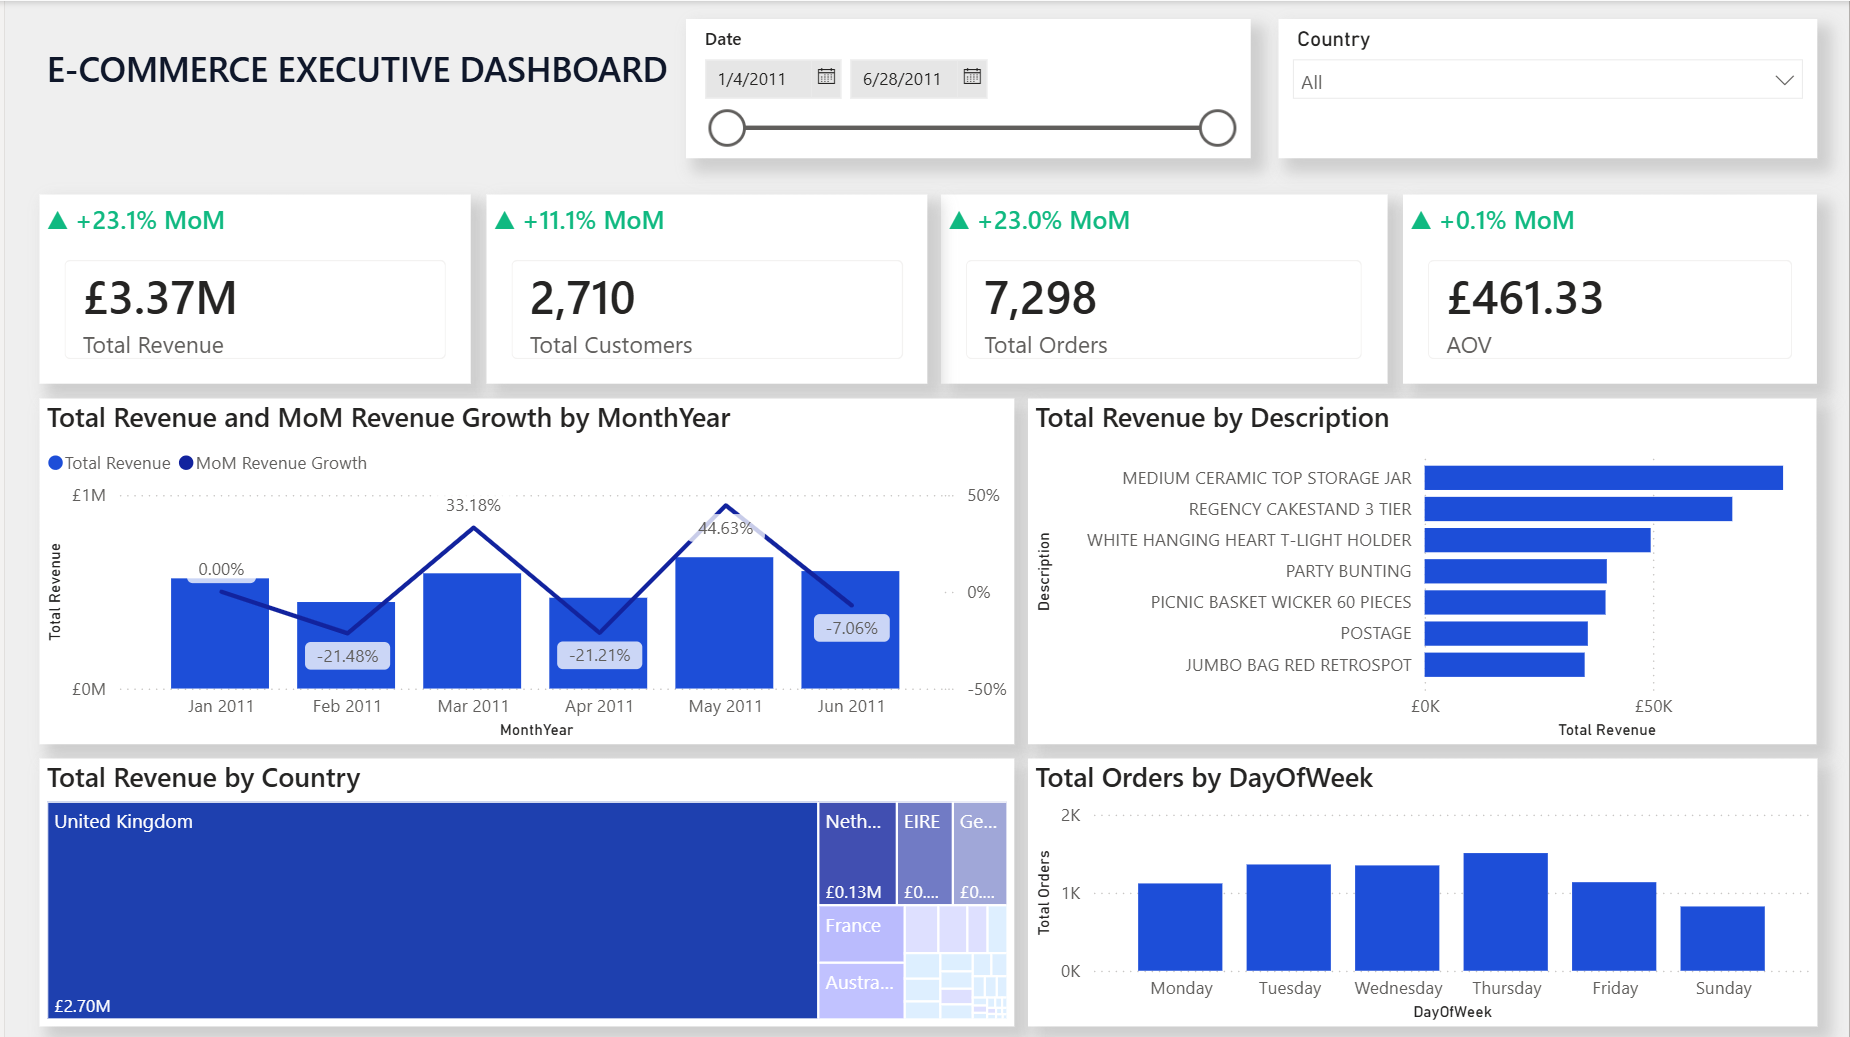

The dashboard page shown, as its layout file describes it:
{"tool":"powerbi","page":{"name":"Executive Overview","canvas":[1280,720],"ordinal":0},"visuals":[{"type":"textbox","box":[24.1,25.3,489.7,47],"z":0},{"type":"slicer","fields":{"Values":["Dim_Date.Date"]},"box":[472.8,12.1,392,96.5],"z":1000},{"type":"slicer","fields":{"Values":["transactions_clean.Country"]},"box":[884,12.1,373.9,96.5],"z":2000},{"type":"cardVisual","fields":{"Data":["Measures (2).Total Revenue"]},"box":[24.1,133.9,299.1,131.5],"z":3000},{"type":"cardVisual","fields":{"Data":["Measures (2).Total Orders"]},"box":[650.1,133.9,310,131.5],"z":4000},{"type":"cardVisual","fields":{"Data":["Measures (2).Total Customers"]},"box":[334.1,133.9,306.3,131.5],"z":5000},{"type":"cardVisual","fields":{"Data":["Measures (2).AOV"]},"box":[970.9,133.9,287,131.5],"z":6000},{"type":"lineClusteredColumnComboChart","fields":{"Category":["Dim_Date.MonthYear"],"Y":["Measures (2).Total Revenue"],"Y2":["Measures (2).MoM Revenue Growth"]},"box":[24.1,276.2,676.6,240],"z":7000},{"type":"clusteredBarChart","fields":{"Category":["transactions_clean.Description"],"Y":["Measures (2).Total Revenue"]},"box":[710.4,276.2,547.5,240],"z":8000},{"type":"treemap","fields":{"Group":["transactions_clean.Country"],"Values":["Measures (2).Total Revenue"]},"box":[24.1,525.8,676.6,185.7],"z":9000},{"type":"clusteredColumnChart","fields":{"Category":["Dim_Date.DayOfWeek"],"Y":["Measures (2).Total Orders"]},"box":[710,526,548,186],"z":10000}]}

Visuals, with their boxes in screenshot pixels (x1, y1, x2, y2), scaled from the page's 1280x720 canvas onto the 1850x1037 screenshot:
textbox: x1=35 y1=36 x2=743 y2=104
slicer - Dim_Date.Date: x1=683 y1=17 x2=1250 y2=156
slicer - transactions_clean.Country: x1=1278 y1=17 x2=1818 y2=156
cardVisual - Measures (2).Total Revenue: x1=35 y1=193 x2=467 y2=382
cardVisual - Measures (2).Total Orders: x1=940 y1=193 x2=1388 y2=382
cardVisual - Measures (2).Total Customers: x1=483 y1=193 x2=926 y2=382
cardVisual - Measures (2).AOV: x1=1403 y1=193 x2=1818 y2=382
lineClusteredColumnComboChart - Dim_Date.MonthYear x Measures (2).Total Revenue: x1=35 y1=398 x2=1013 y2=743
clusteredBarChart - transactions_clean.Description x Measures (2).Total Revenue: x1=1027 y1=398 x2=1818 y2=743
treemap - transactions_clean.Country x Measures (2).Total Revenue: x1=35 y1=757 x2=1013 y2=1025
clusteredColumnChart - Dim_Date.DayOfWeek x Measures (2).Total Orders: x1=1026 y1=758 x2=1818 y2=1025
